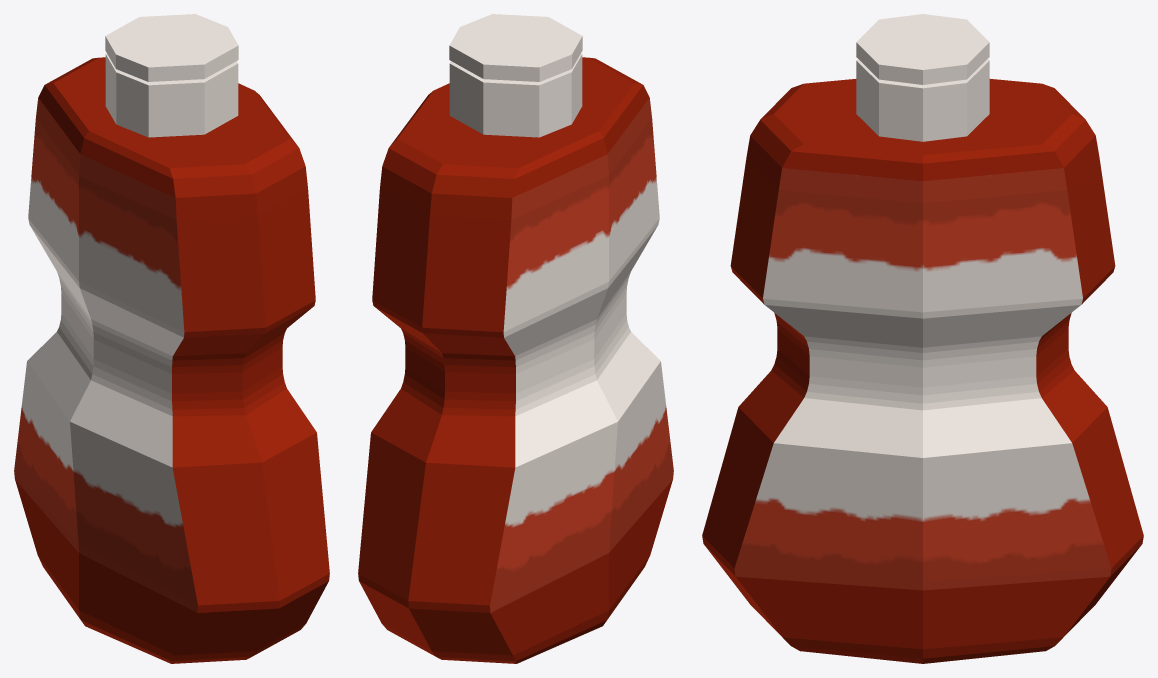
Rendered from heinz sauce textured.fbx.
The picture shows the model from 3 angles, left to right: view 1: azimuth 30°, elevation 25°; view 2: azimuth 150°, elevation 25°; view 3: azimuth 270°, elevation 25°; orthographic projection. The views are drawn at different scales.
Parts seen in each view (by area): view 1: heinz sauce; view 2: heinz sauce; view 3: heinz sauce.
Part boxes in pixels (x1,y1,x2,y2): heinz sauce: [14, 14, 329, 663]; heinz sauce: [358, 14, 673, 663]; heinz sauce: [702, 14, 1143, 663].
Bounding box in the file's own units: 207 × 550 × 379.
